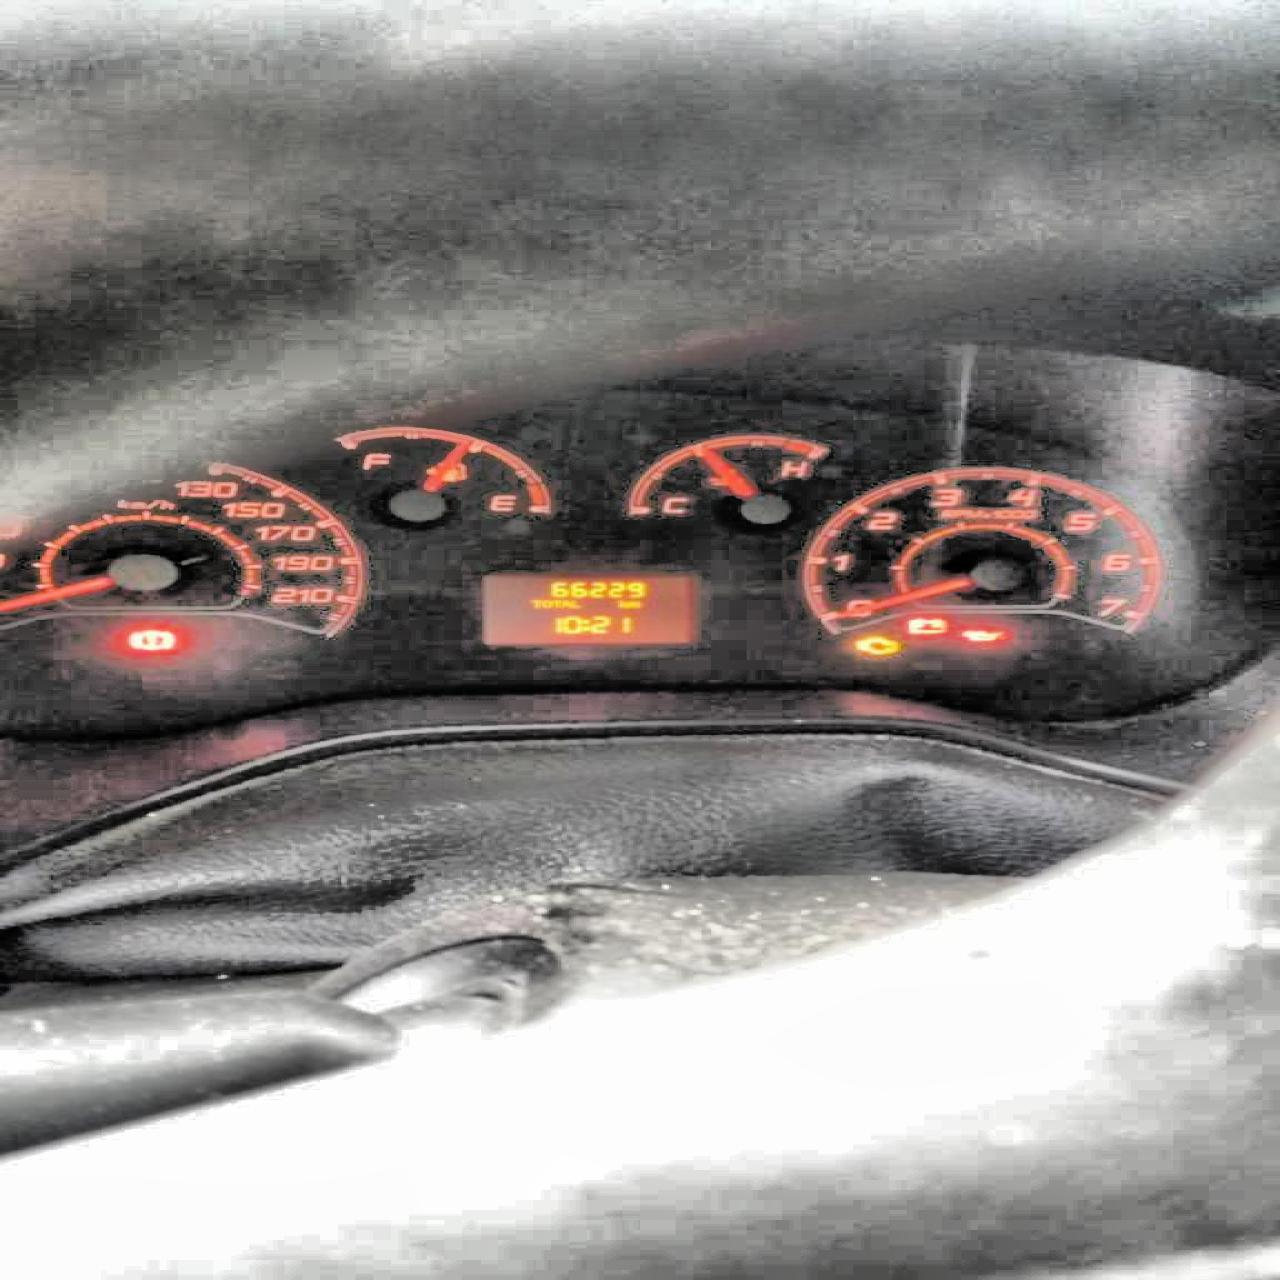0: (560, 615, 580, 633)
1: (618, 615, 632, 633), (551, 617, 560, 632)
2: (588, 615, 610, 633), (605, 581, 625, 597), (586, 581, 605, 597)
6: (566, 581, 586, 597), (549, 581, 567, 597)
9: (625, 581, 645, 597)
X: (526, 598, 540, 607), (580, 618, 588, 631), (540, 599, 551, 607), (551, 599, 560, 607), (568, 599, 578, 607), (615, 599, 626, 606), (560, 599, 568, 607), (626, 601, 638, 606)
odometer: (477, 572, 695, 647)
